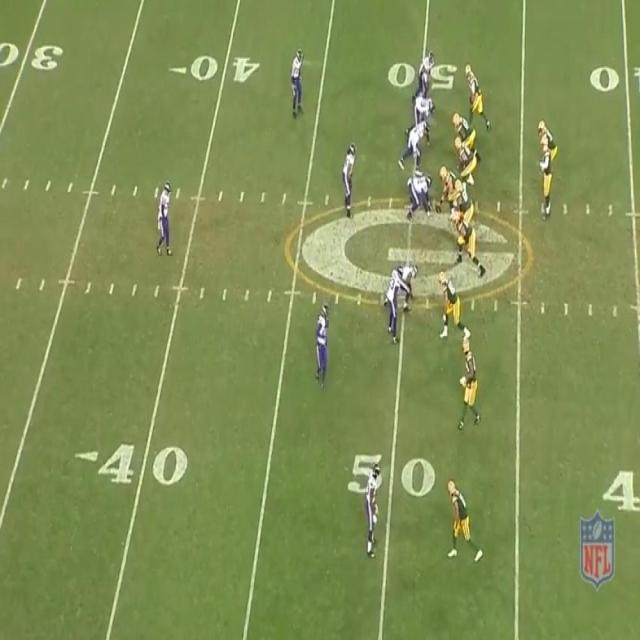center: (436, 166, 457, 212)
db: (155, 181, 173, 255), (384, 266, 402, 336), (367, 462, 380, 551), (292, 49, 306, 116), (315, 304, 326, 379)
lb: (416, 47, 436, 92)
qb: (536, 139, 556, 217)
